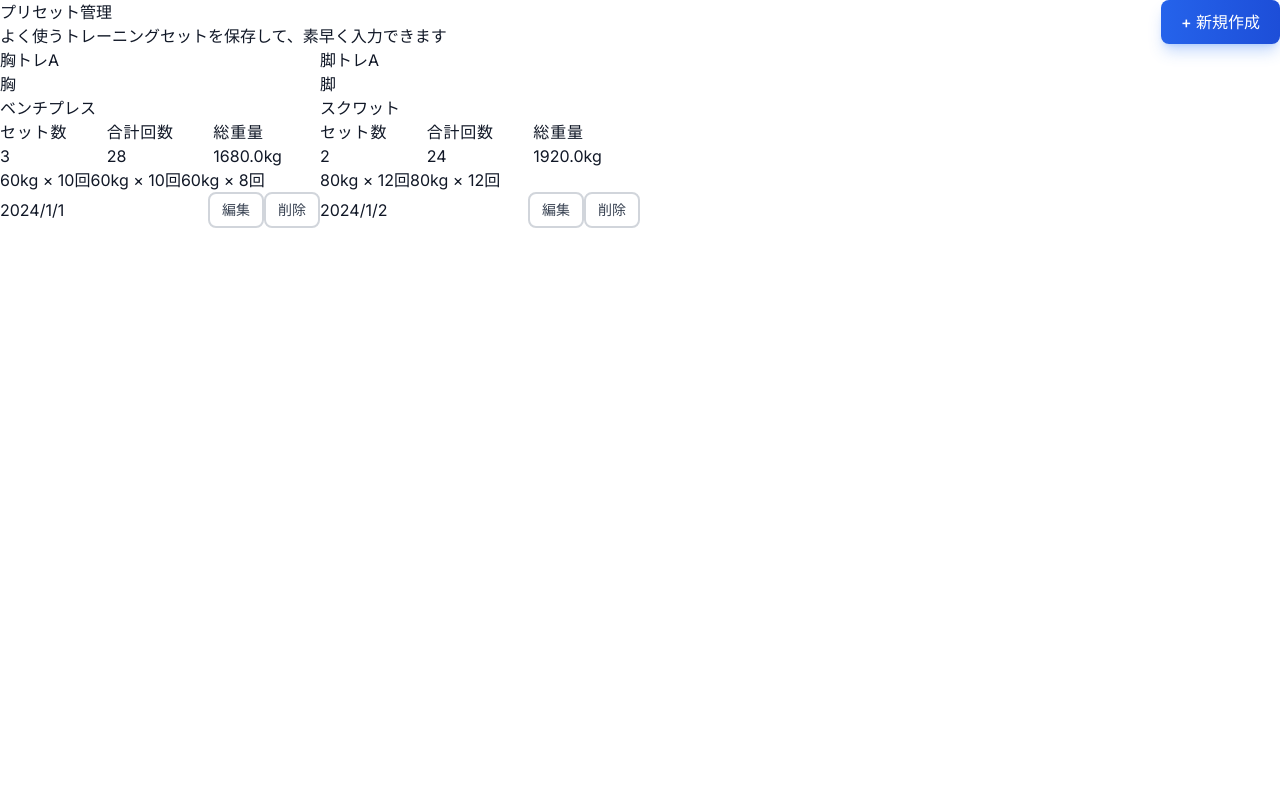
Test: PresetManager › プリセット作成 › 新規作成ボタンをクリックすると作成モーダルが開く
Click the button "+ 新規作成".
click(1220, 22)  # box [1161,0,1279,44]
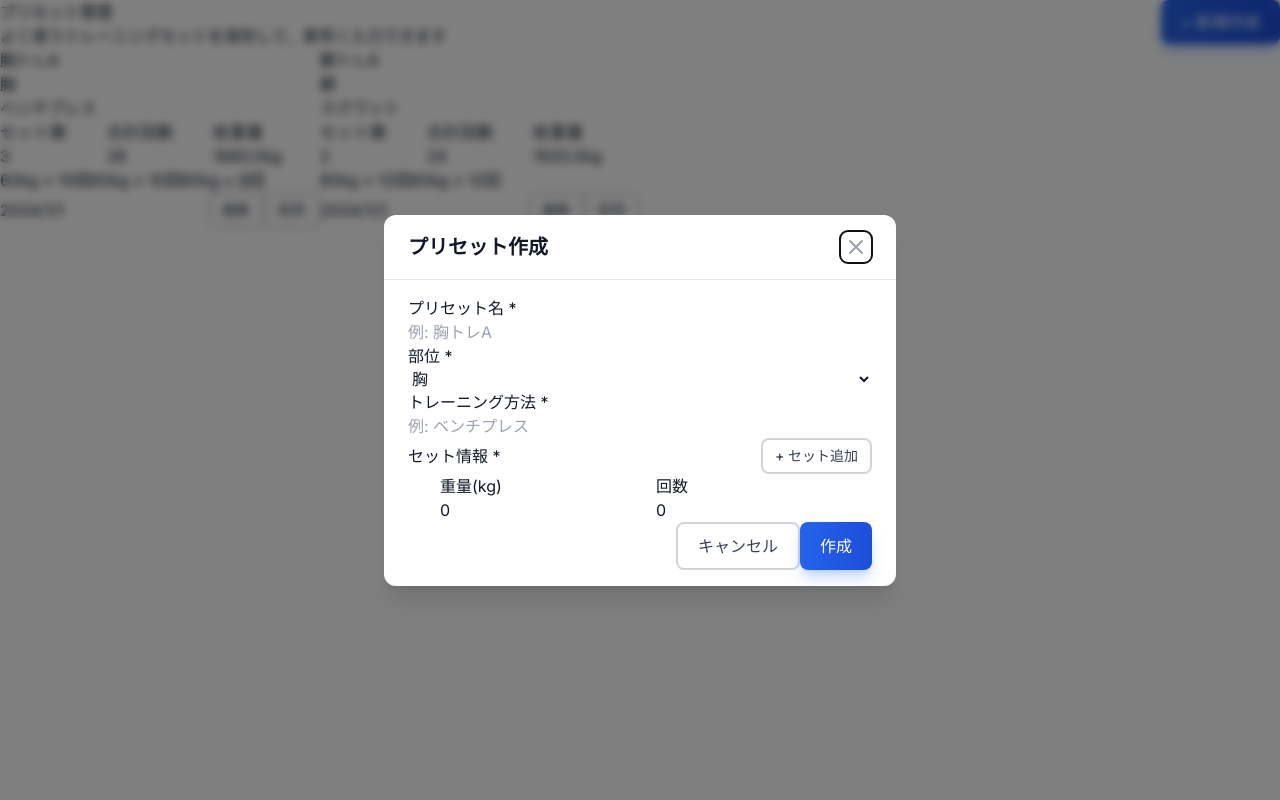
Now the heading "プリセット作成" is shown, box [408,232,548,260]
